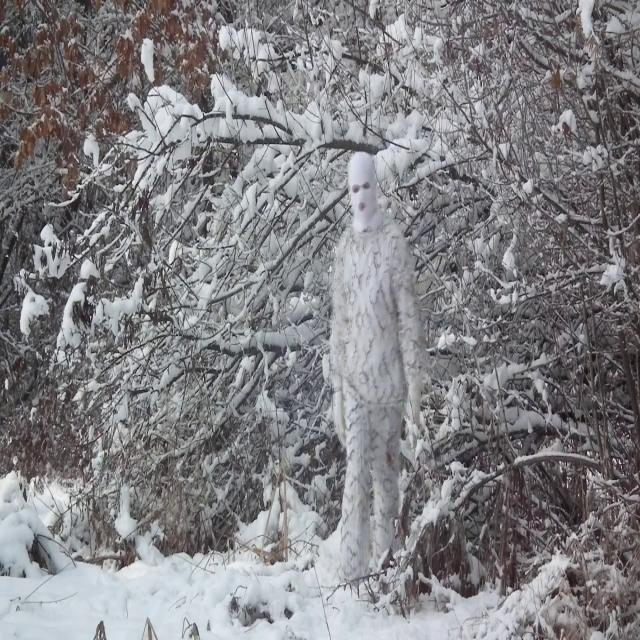Camouflage: (328, 148, 424, 584)
